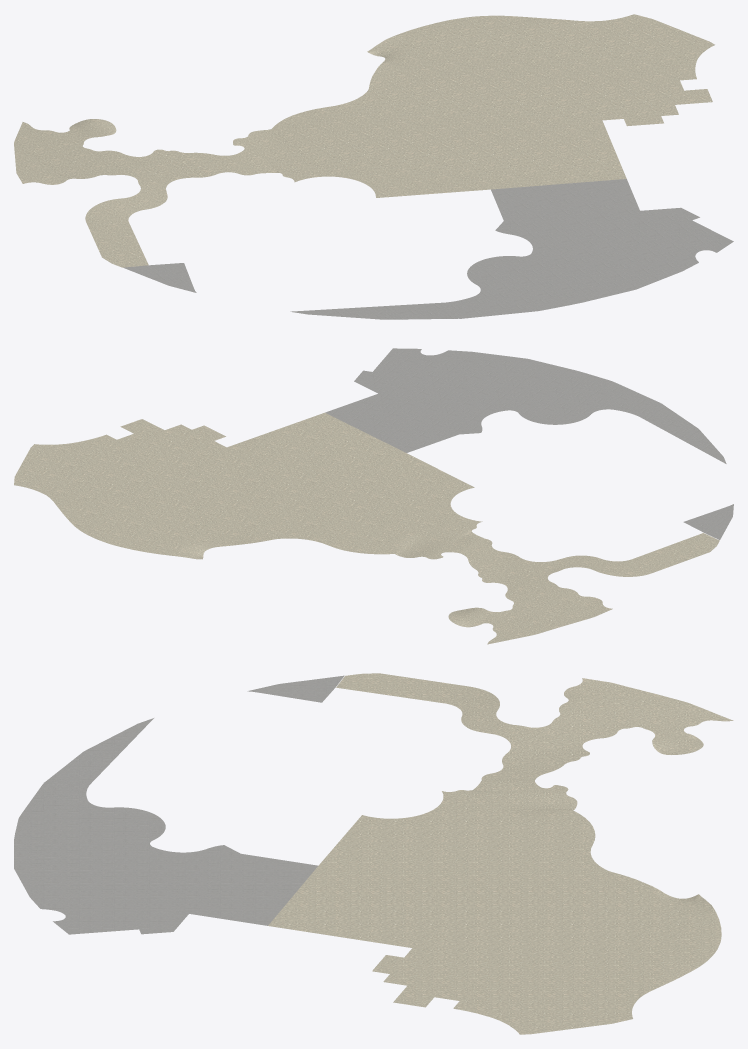
Rendered from entrancepath.gltf.
3 renders of one model, top to bottom at view 1: azimuth 30°, elevation 25°; view 2: azimuth 150°, elevation 25°; view 3: azimuth 270°, elevation 25°, orthographic. The views are drawn at different scales.
Parts seen in each view (by area): view 1: node17.004, node6.002, node9.002, node17.001; view 2: node17.004, node6.002, node9.002, node17.001; view 3: node17.004, node6.002, node9.002, node17.001.
Part boxes in pixels (bbox=[...]): node17.004: bbox=[271, 14, 714, 197]; node6.002: bbox=[123, 207, 733, 319]; node9.002: bbox=[14, 119, 312, 267]; node17.001: bbox=[491, 179, 639, 220]; node17.004: bbox=[14, 412, 482, 559]; node6.002: bbox=[354, 348, 733, 539]; node9.002: bbox=[393, 526, 719, 644]; node17.001: bbox=[325, 393, 458, 452]; node17.004: bbox=[268, 790, 721, 1034]; node6.002: bbox=[14, 675, 344, 934]; node9.002: bbox=[336, 673, 733, 818]; node17.001: bbox=[189, 853, 317, 925].
Bounding box in the file's own units: 511 × 4.37 × 430.
Materials: 2 (2 with a texture image).
